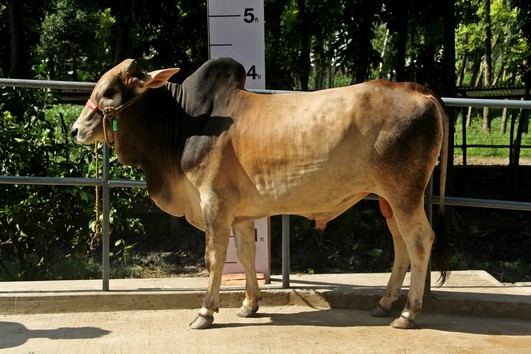cow: (65, 47, 454, 331)
